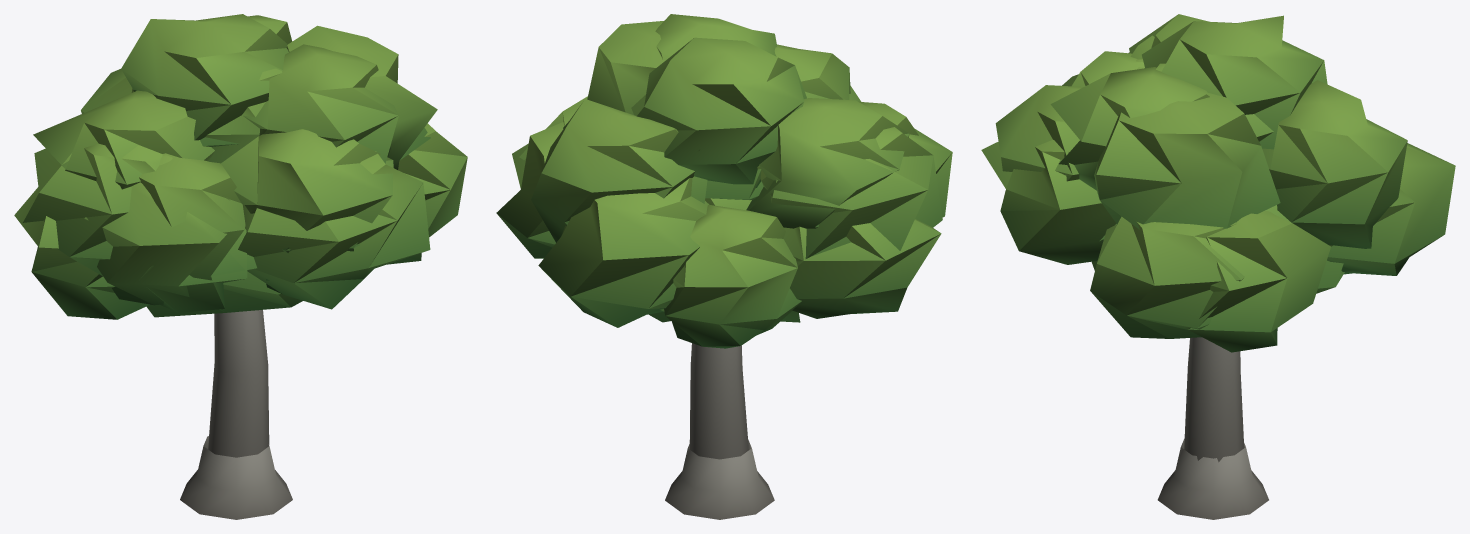
Rendered from beech.glb.
3 views of the same model, side by side, from view 1: azimuth 30°, elevation 25°; view 2: azimuth 150°, elevation 25°; view 3: azimuth 270°, elevation 25° (orthographic). The views are drawn at different scales.
Visible parts, largest first — view 1: beech; view 2: beech; view 3: beech.
Part boxes in pixels (left/top/right/bottom): beech: left=14, top=14, right=467, bottom=519; beech: left=496, top=14, right=952, bottom=519; beech: left=981, top=14, right=1455, bottom=519.
Size of the model in its own units: 1.01 by 1.08 by 1.
